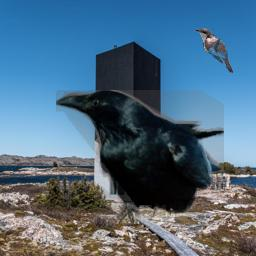Crow: (56, 90, 224, 224)
Cuckoo: (194, 27, 233, 74)
